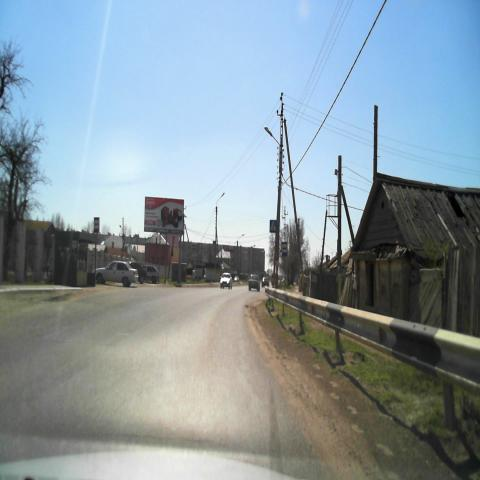5_16: (94, 217, 100, 233)
